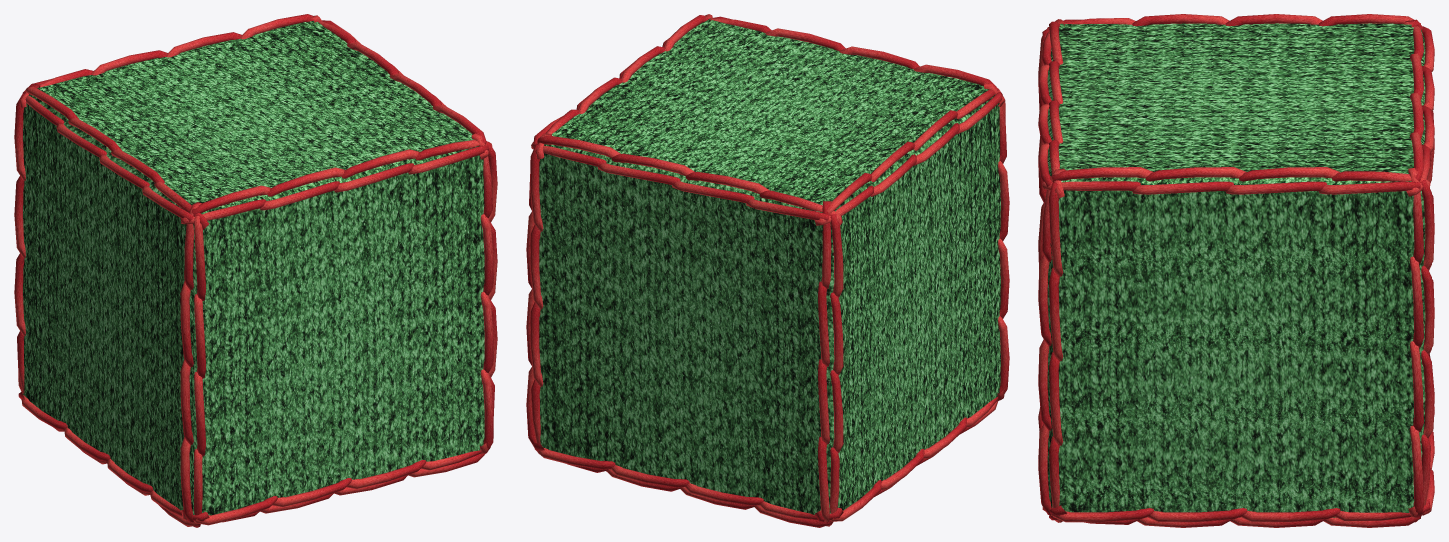
Rendered from shop_Block.fbx.
3 views of the same model, side by side, from view 1: azimuth 30°, elevation 25°; view 2: azimuth 150°, elevation 25°; view 3: azimuth 270°, elevation 25° (orthographic). The views are drawn at different scales.
Visible parts, largest first — view 1: pCube1, stitchEasy; view 2: pCube1, stitchEasy; view 3: pCube1, stitchEasy.
Part boxes in pixels (box(x1,y1,x2,y2)): pCube1: box(23, 21, 484, 515); stitchEasy: box(14, 14, 497, 527); pCube1: box(539, 18, 1000, 514); stitchEasy: box(526, 14, 1009, 527); pCube1: box(1047, 23, 1425, 517); stitchEasy: box(1038, 14, 1434, 527).
Bounding box in the file's own units: 1.05 × 1.05 × 1.05.
Materials: 2 (2 with a texture image).
